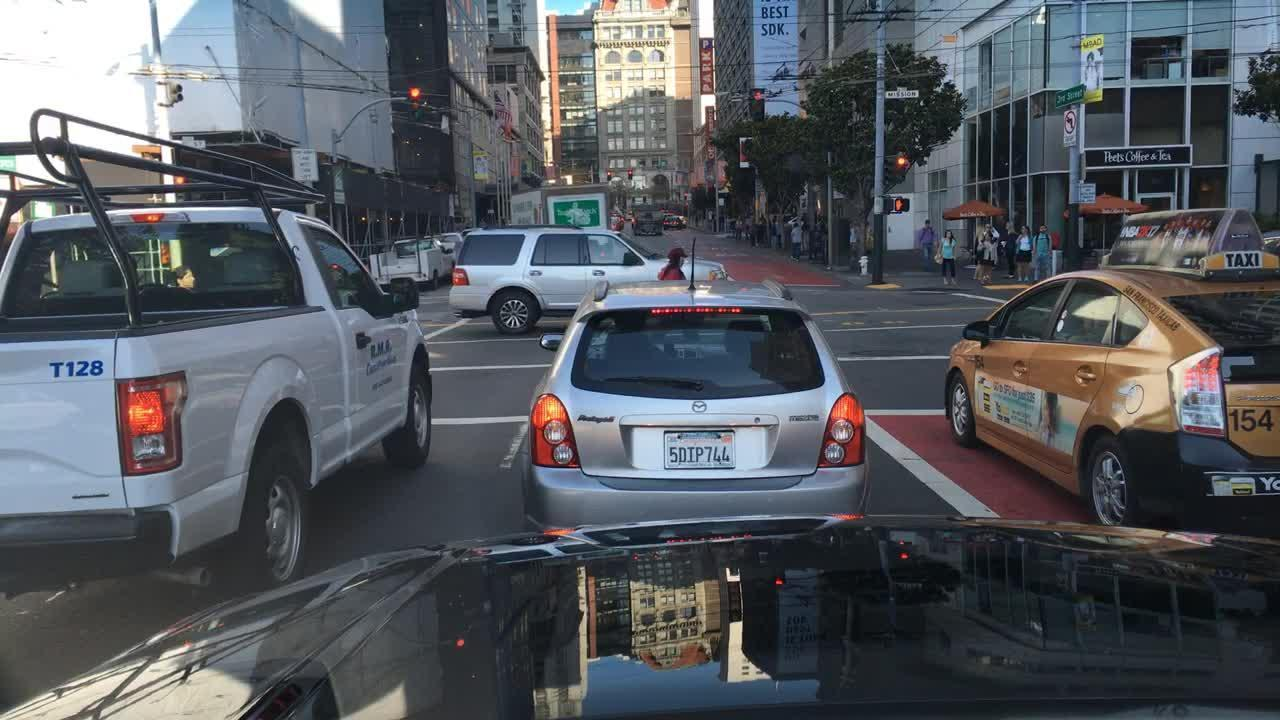Mazda: (690, 397, 711, 416)
